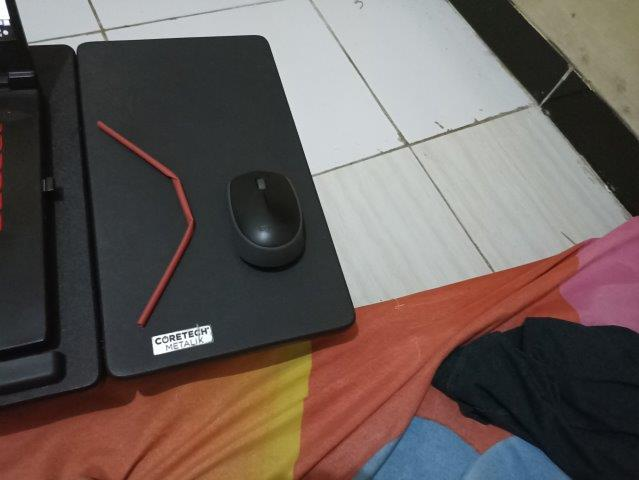sedotan: (97, 121, 194, 326)
